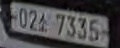02소7335: (14, 8, 102, 43)
